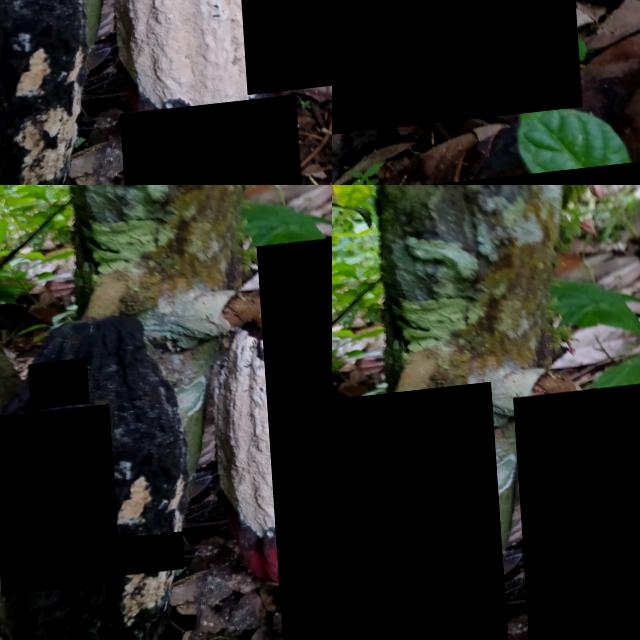Fitoftora: (254, 236, 332, 640)
Monilia: (332, 387, 507, 640), (509, 389, 640, 640)
Sana: (332, 0, 574, 148), (0, 407, 113, 596), (113, 104, 297, 185), (225, 0, 332, 103), (86, 536, 178, 581), (25, 361, 85, 411)
